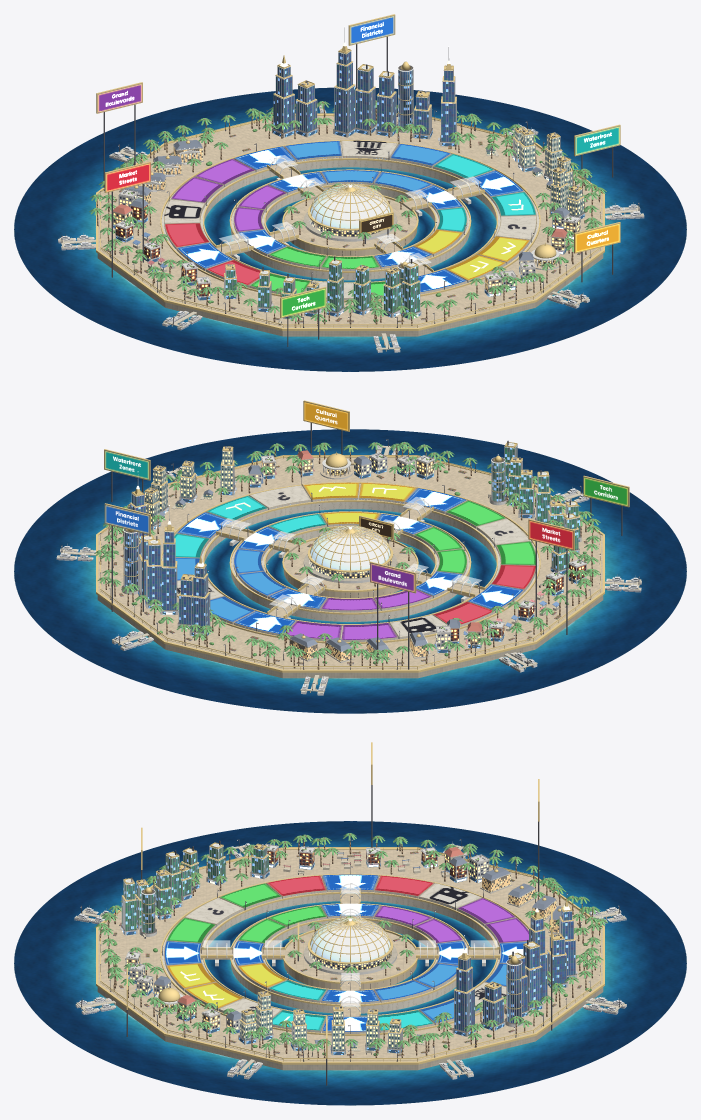
Rendered from board_circuit_32.glb.
3 renders of one model, top to bottom at view 1: azimuth 30°, elevation 25°; view 2: azimuth 150°, elevation 25°; view 3: azimuth 270°, elevation 25°, orthographic.
Parts seen in each view (by area): view 1: board_circuit_32__water_sea, board_circuit_32__circuit_32_tiles, board_circuit_32__paving_warm, board_circuit_32__gold, board_circuit_32__steel, board_circuit_32__palm, board_circuit_32__facade_glass, board_circuit_32__white, board_circuit_32__water_channel, board_circuit_32__marble, board_circuit_32__glass_dome, board_circuit_32__facade_green (+19 smaller); view 2: board_circuit_32__water_sea, board_circuit_32__circuit_32_tiles, board_circuit_32__paving_warm, board_circuit_32__gold, board_circuit_32__palm, board_circuit_32__steel, board_circuit_32__facade_glass, board_circuit_32__white, board_circuit_32__water_channel, board_circuit_32__marble, board_circuit_32__glass_dome, board_circuit_32__paving (+20 smaller); view 3: board_circuit_32__water_sea, board_circuit_32__paving_warm, board_circuit_32__circuit_32_tiles, board_circuit_32__gold, board_circuit_32__palm, board_circuit_32__steel, board_circuit_32__facade_glass, board_circuit_32__white, board_circuit_32__marble, board_circuit_32__water_channel, board_circuit_32__glass_dome, board_circuit_32__facade_green (+13 smaller).
Part boxes in pixels (box(x1,y1,x2,y2)): board_circuit_32__water_sea: box(14, 87, 686, 371); board_circuit_32__circuit_32_tiles: box(164, 140, 536, 300); board_circuit_32__paving_warm: box(98, 116, 602, 327); board_circuit_32__gold: box(96, 14, 620, 330); board_circuit_32__steel: box(60, 27, 639, 347); board_circuit_32__palm: box(89, 100, 606, 321); board_circuit_32__facade_glass: box(113, 51, 584, 318); board_circuit_32__white: box(113, 66, 585, 319); board_circuit_32__water_channel: box(204, 167, 496, 282); board_circuit_32__marble: box(161, 142, 539, 282); board_circuit_32__glass_dome: box(219, 155, 481, 265); board_circuit_32__facade_green: box(225, 263, 419, 312); board_circuit_32__water_sea: box(14, 429, 686, 713); board_circuit_32__circuit_32_tiles: box(174, 482, 535, 641); board_circuit_32__paving_warm: box(98, 457, 602, 669); board_circuit_32__gold: box(96, 400, 629, 672); board_circuit_32__palm: box(94, 442, 600, 662); board_circuit_32__steel: box(59, 444, 639, 689); board_circuit_32__facade_glass: box(125, 468, 585, 652); board_circuit_32__white: box(121, 443, 586, 654); board_circuit_32__water_channel: box(204, 509, 496, 623); board_circuit_32__marble: box(162, 484, 539, 643); board_circuit_32__glass_dome: box(219, 497, 481, 607); board_circuit_32__paving: box(97, 554, 603, 678); board_circuit_32__water_sea: box(14, 821, 686, 1105); board_circuit_32__paving_warm: box(98, 849, 602, 1061); board_circuit_32__circuit_32_tiles: box(164, 874, 528, 1033); board_circuit_32__gold: box(96, 742, 604, 1064); board_circuit_32__palm: box(94, 833, 607, 1051); board_circuit_32__steel: box(76, 842, 624, 1075); board_circuit_32__facade_glass: box(121, 860, 575, 1054); board_circuit_32__white: box(121, 843, 576, 1055); board_circuit_32__marble: box(161, 876, 528, 1035); board_circuit_32__water_channel: box(205, 901, 495, 1015); board_circuit_32__glass_dome: box(203, 882, 497, 1006); board_circuit_32__facade_green: box(122, 847, 268, 932).
Size of what is drawn, in the model's own units: 25.2 by 4.73 by 25.2.
Materials: 46 (24 with a texture image).
